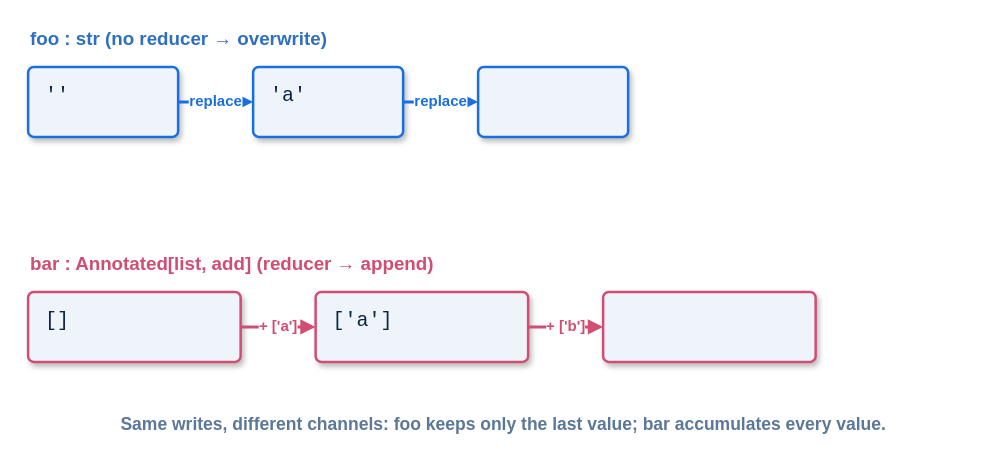
Image size: 999x460. Some labels were removed from this diagram. The centre of each missing label's shape, as x and y in pixels:
'b': the point at 553,103
['a', 'b']: the point at 710,328
